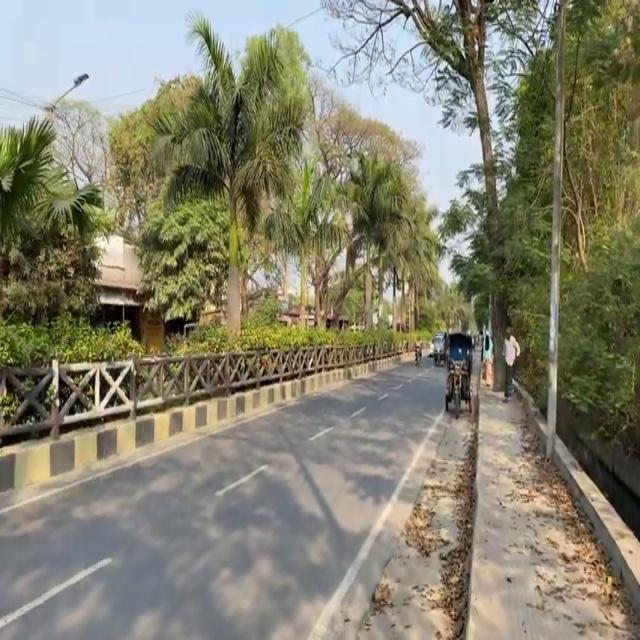Construction-barrier: (459, 348, 483, 639)
Fallen-tree: (432, 345, 443, 366), (413, 343, 422, 366)
Garbage-bin: (501, 326, 521, 401), (481, 328, 493, 386)
Light-pole: (544, 0, 568, 460)
Pole: (0, 337, 409, 505)
Pothole: (464, 349, 639, 639)
